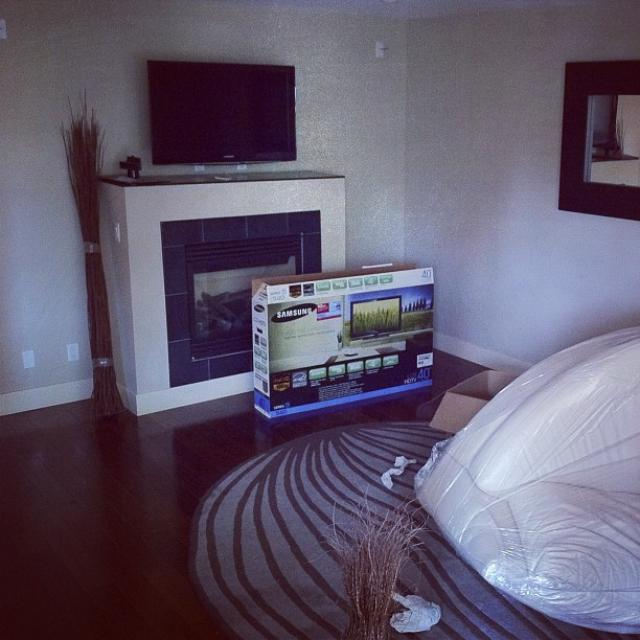Flat-Panel-TV: (163, 214, 327, 387), (149, 58, 296, 165)
